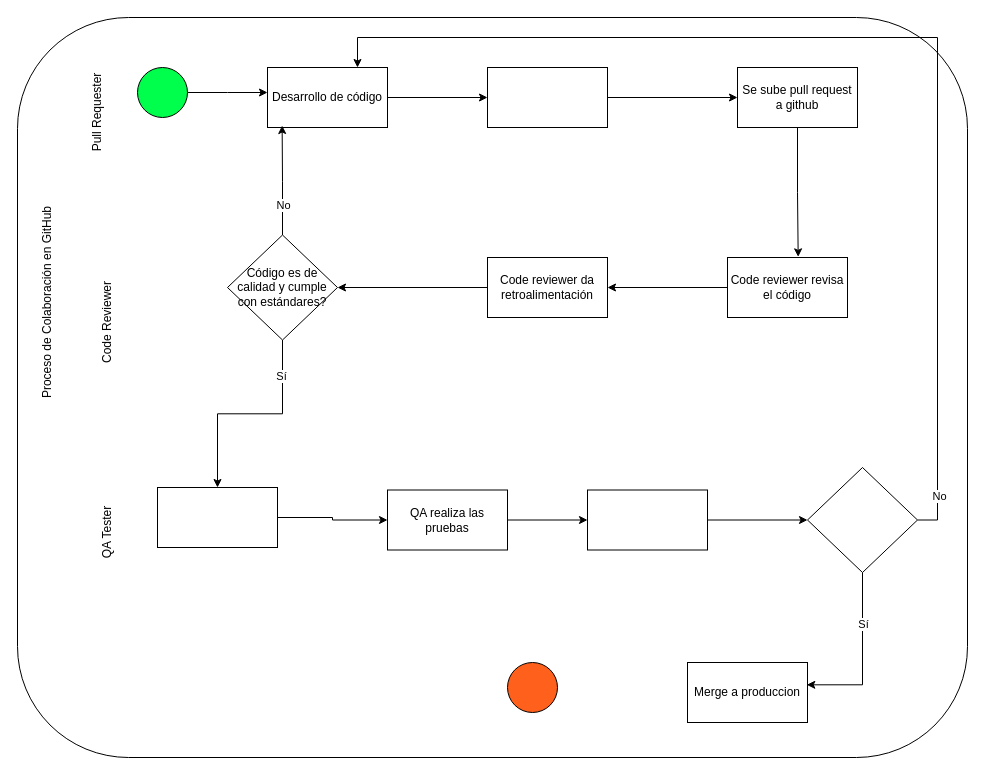
Image size: 985x775. Some labels were removed from this diagram. The centre of each missing label's shape, as x and y in pixels:
"Creación de pull request" goes at (x=547, y=97).
"QA Reporta problemas" goes at (x=647, y=519).
"Se asigna tester de QA" goes at (x=217, y=517).
"Se puede desplegar a entorno de producción?" goes at (x=862, y=519).
